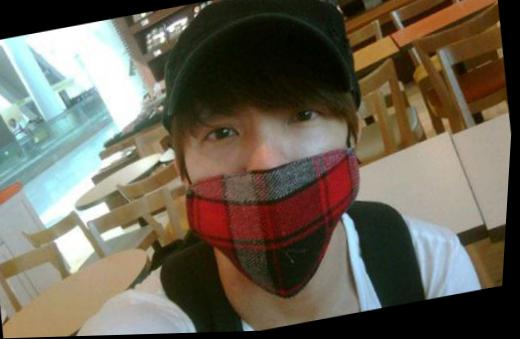WRONG: (168, 67, 382, 285)
